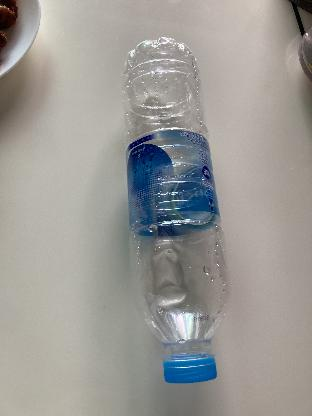Plastic Bottle: (118, 35, 234, 386)
